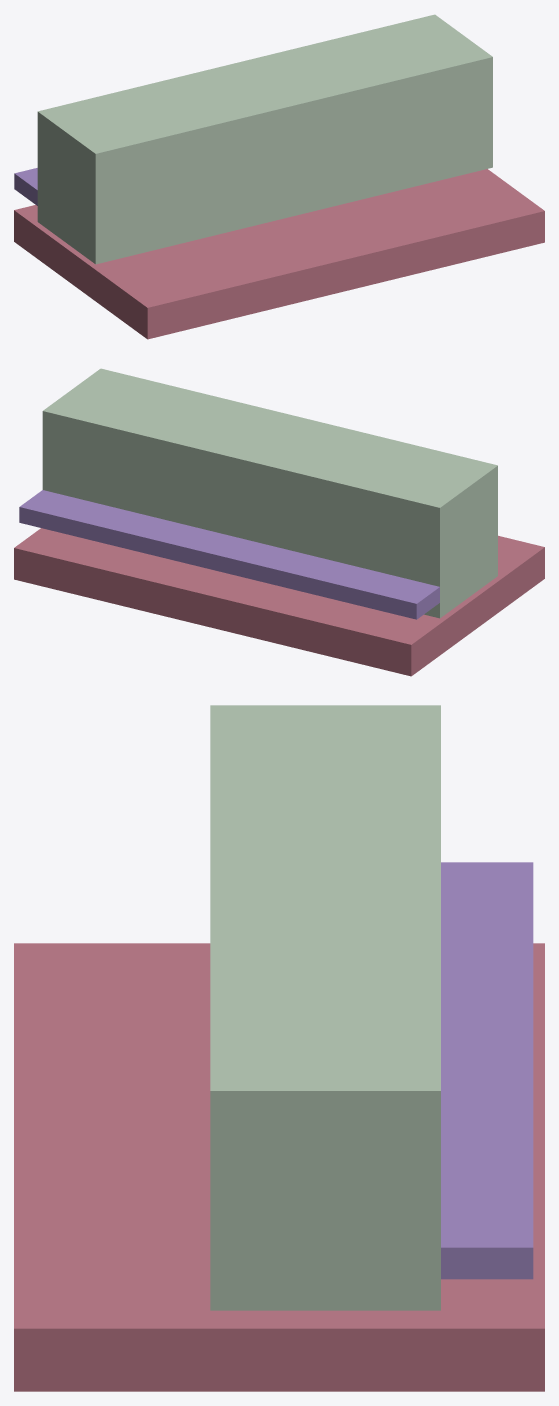
3 renders of one model, top to bottom at view 1: azimuth 30°, elevation 25°; view 2: azimuth 150°, elevation 25°; view 3: azimuth 270°, elevation 25°, orthographic. The views are drawn at different scales.
Parts seen in each view (by area): view 1: world; view 2: world; view 3: world.
Part boxes in pixels (left/top/right/bottom): world: left=14, top=14, right=544, bottom=339; world: left=14, top=368, right=544, bottom=676; world: left=14, top=705, right=544, bottom=1391.
Bounding box in the file's own units: 7.95 × 2.85 × 4.6.
